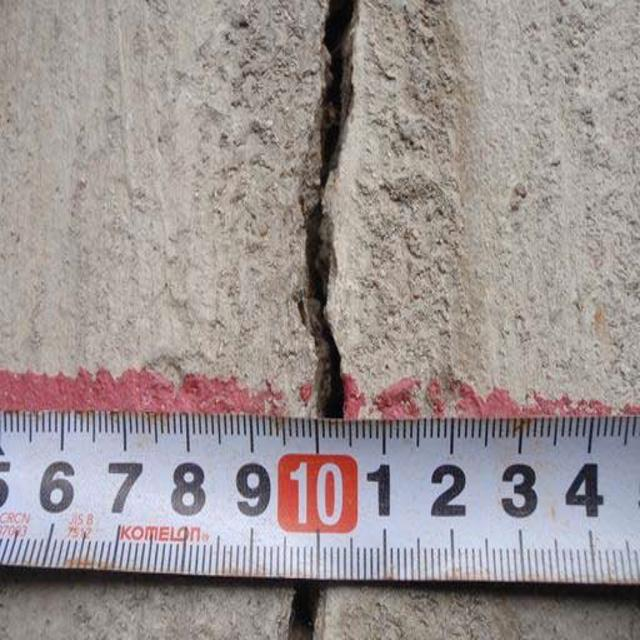crack: (270, 1, 389, 422), (263, 584, 343, 640)
